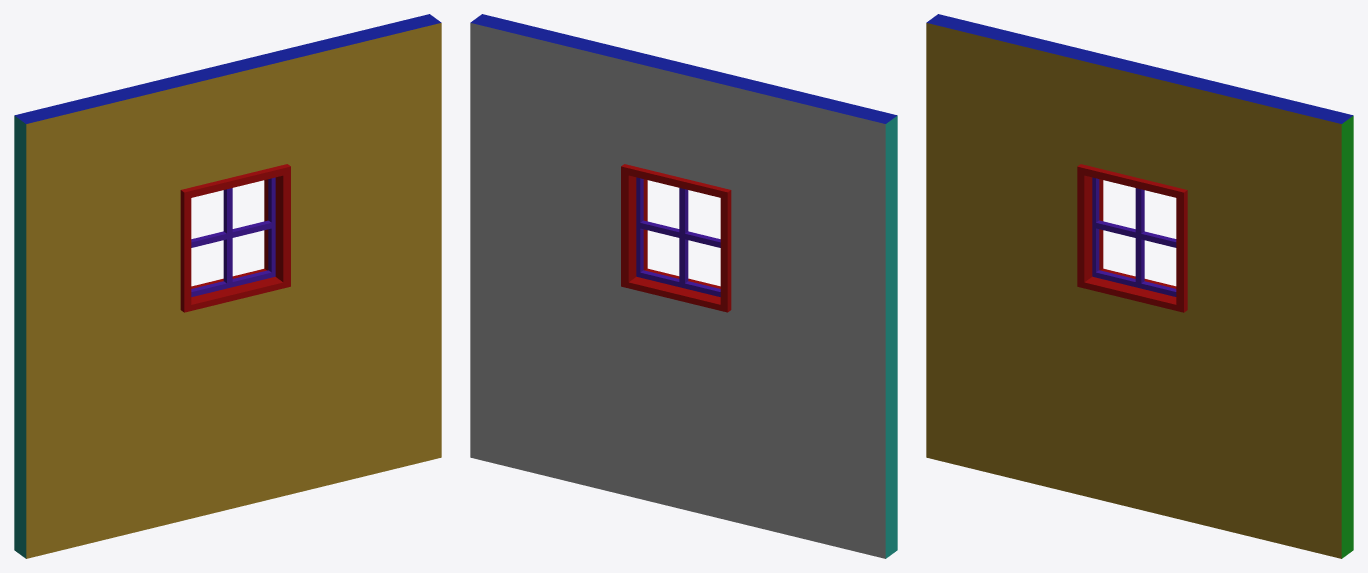
The model's file is Wall_Window_03c.fbx.
3 renders of one model, left to right at view 1: azimuth 30°, elevation 25°; view 2: azimuth 150°, elevation 25°; view 3: azimuth 330°, elevation 25°, orthographic.
Visible parts, largest first — view 1: Wall_Window_03c; view 2: Wall_Window_03c; view 3: Wall_Window_03c.
Boxes of the visible parts, x1,y1,x2,y2 form: Wall_Window_03c: (14,14,441,558); Wall_Window_03c: (470,14,897,558); Wall_Window_03c: (926,14,1353,558).
Size of the model in its own units: 3 by 0.2364 by 3.
